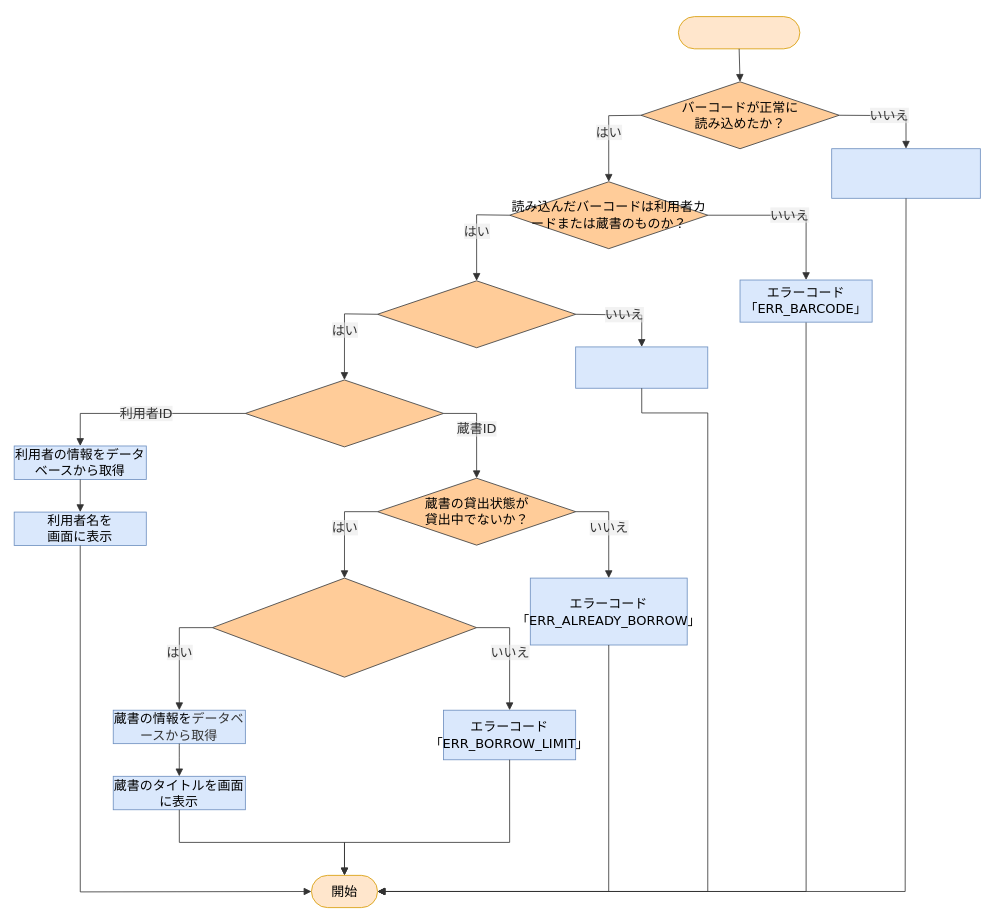
Some shapes in this 1004 by 922 pixel diagram are drawn without their labels. Each missing label, with the centre of its shape:
"エラーコード「ERR_INPUT_BARCODE」" goes at point (905, 173).
"エラーコード「ERR_NON_EXIST」" goes at point (641, 367).
"バーコードが 読み込まれた" goes at point (739, 32).
"利用者の借りている蔵書、貸出申請中の蔵書申請で入力されている 蔵書の合計が3冊以内か？" goes at point (344, 627).
"読み込まれたのは利用者IDと蔵書IDのどちらか？" goes at point (344, 413).
"読み込まれたカードの利用者または蔵書がデータベースに存在しているか？" goes at point (476, 314).
